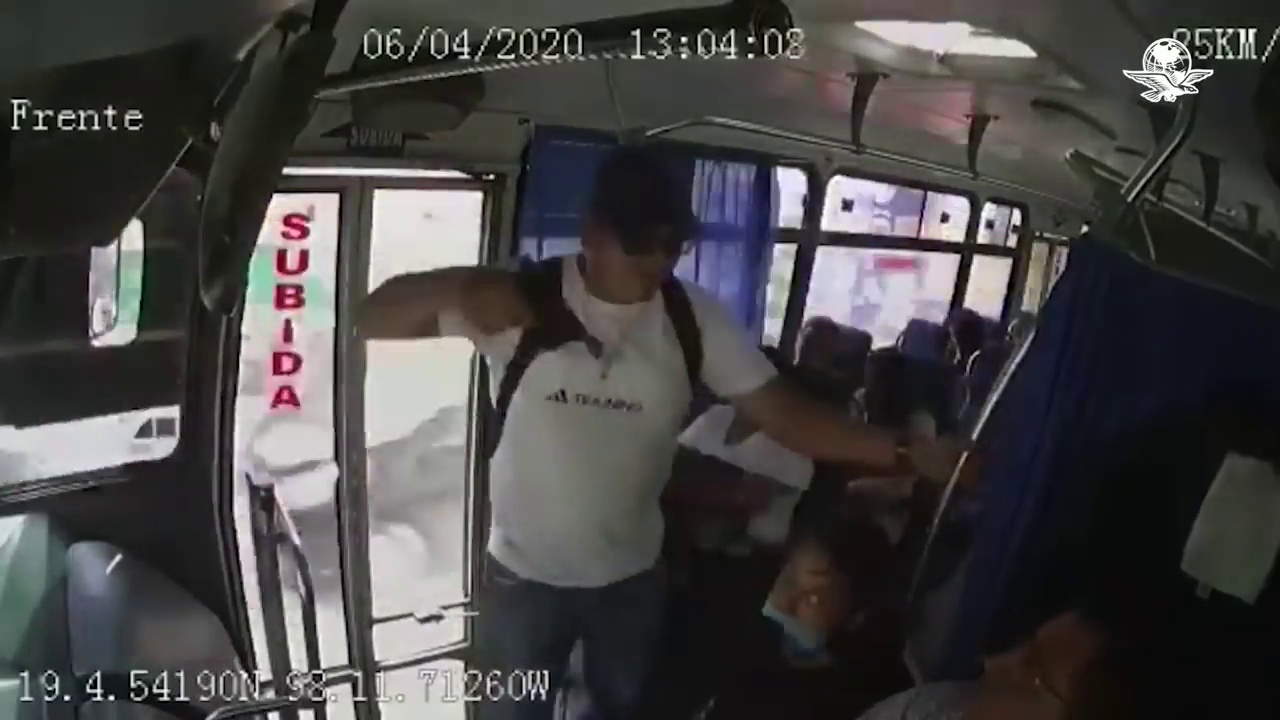pistol: (502, 252, 606, 361)
